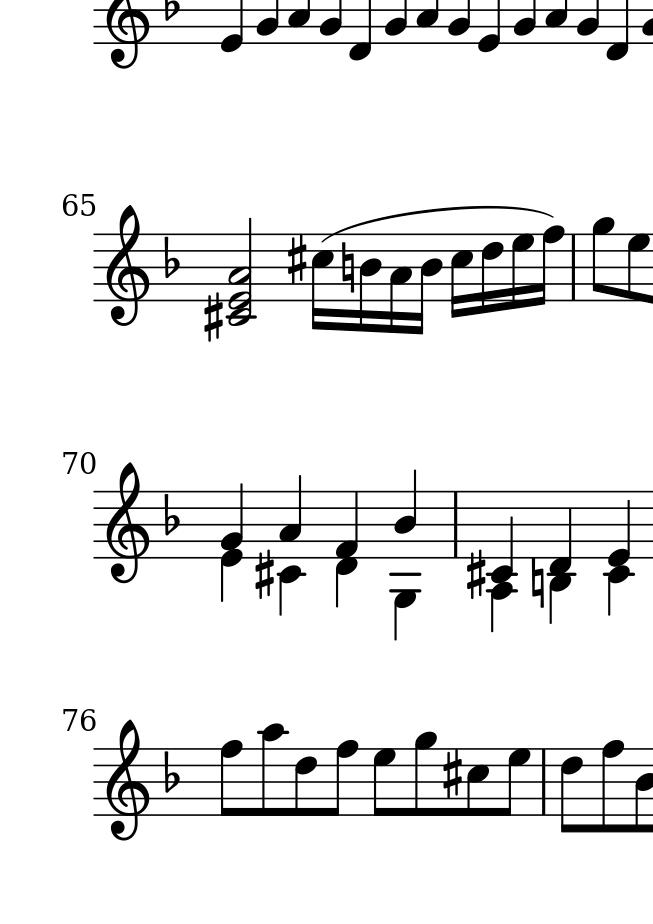0: (79, 449, 97, 476)
16_3: (387, 232, 412, 336)
16_4: (413, 232, 443, 337), (358, 232, 382, 335)
16_5: (309, 232, 334, 334), (449, 232, 473, 319)
16_6: (480, 232, 506, 314)
16_7: (509, 231, 534, 311)
16_8: (534, 225, 566, 307)
2_th: (227, 215, 259, 328)
4_-1_1: (334, 490, 361, 610)
4_-2_0: (602, 490, 635, 619)
4_-2_3: (276, 473, 306, 618)
4_-3_-1: (546, 490, 578, 628)
4_-4_-2: (487, 491, 519, 635)
4_-5_4: (392, 468, 422, 639)
4_0_2: (220, 484, 245, 602)
6: (79, 707, 98, 734), (79, 192, 97, 218), (62, 192, 79, 217)
7: (60, 707, 81, 734), (62, 448, 80, 475)
8_10: (259, 722, 287, 817)
8_5: (465, 746, 490, 818), (633, 746, 652, 833)
8_6: (559, 746, 584, 835), (293, 747, 317, 818)
8_7: (499, 747, 531, 818), (372, 747, 397, 818), (626, 232, 650, 305)
8_8: (326, 739, 359, 818), (219, 739, 243, 818)
8_9: (599, 738, 626, 833), (591, 216, 616, 303), (412, 730, 437, 817)
Flat: (161, 492, 182, 537), (161, 234, 181, 280), (161, 749, 181, 794)
Gclef: (103, 460, 149, 585), (103, 203, 149, 327), (104, 717, 150, 841)
Natural: (530, 557, 546, 614), (340, 239, 356, 294)
Sharp: (284, 233, 308, 287), (252, 546, 275, 600), (465, 548, 488, 602), (202, 289, 224, 344), (441, 748, 463, 800)
Single_barline: (537, 749, 553, 816), (566, 234, 581, 299), (448, 492, 463, 556)
Slur: (320, 205, 560, 242)
